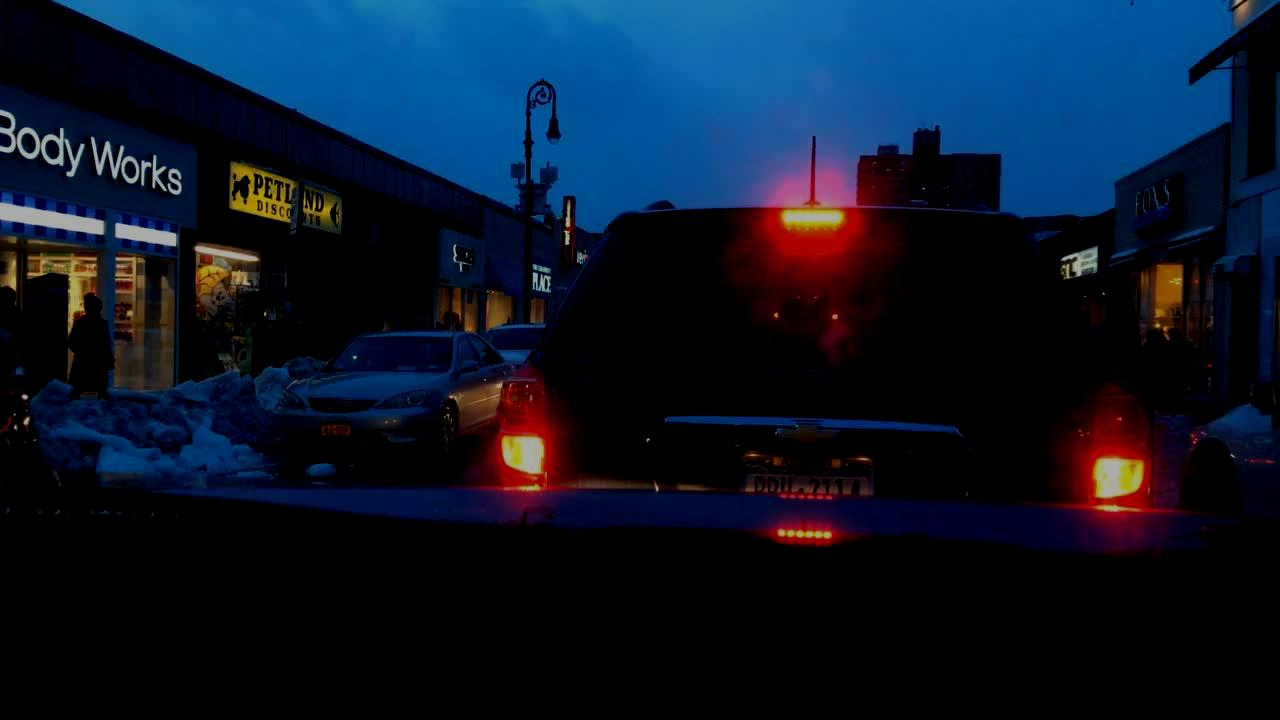chevrolet: (750, 407, 857, 454)
